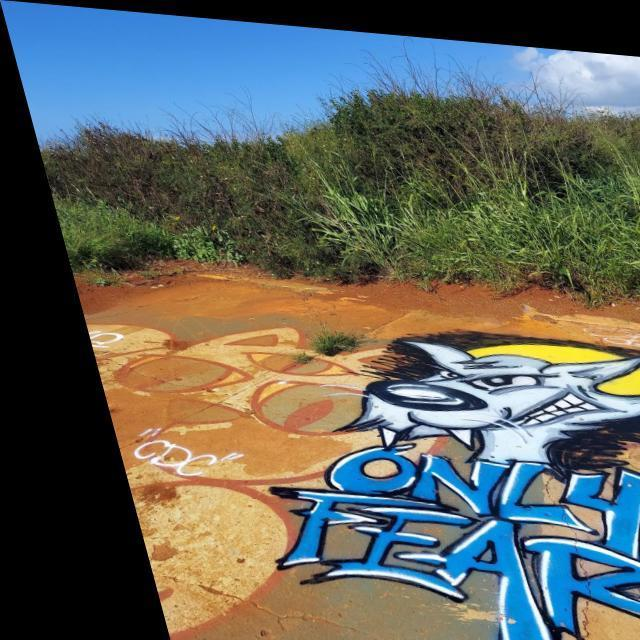-: (228, 418, 640, 640), (315, 280, 640, 490), (90, 392, 234, 489), (68, 320, 122, 352)
